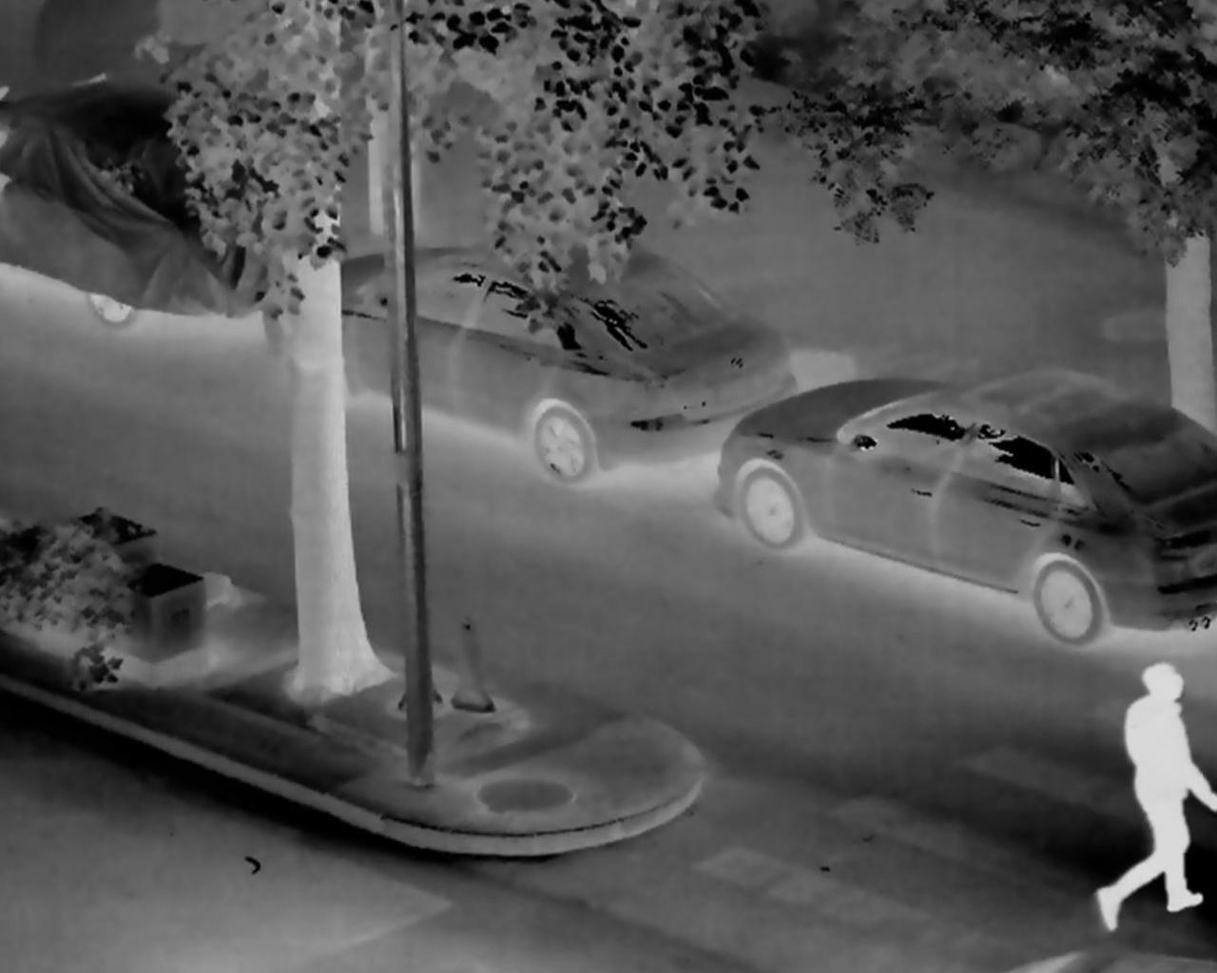person: (1091, 642, 1214, 942)
